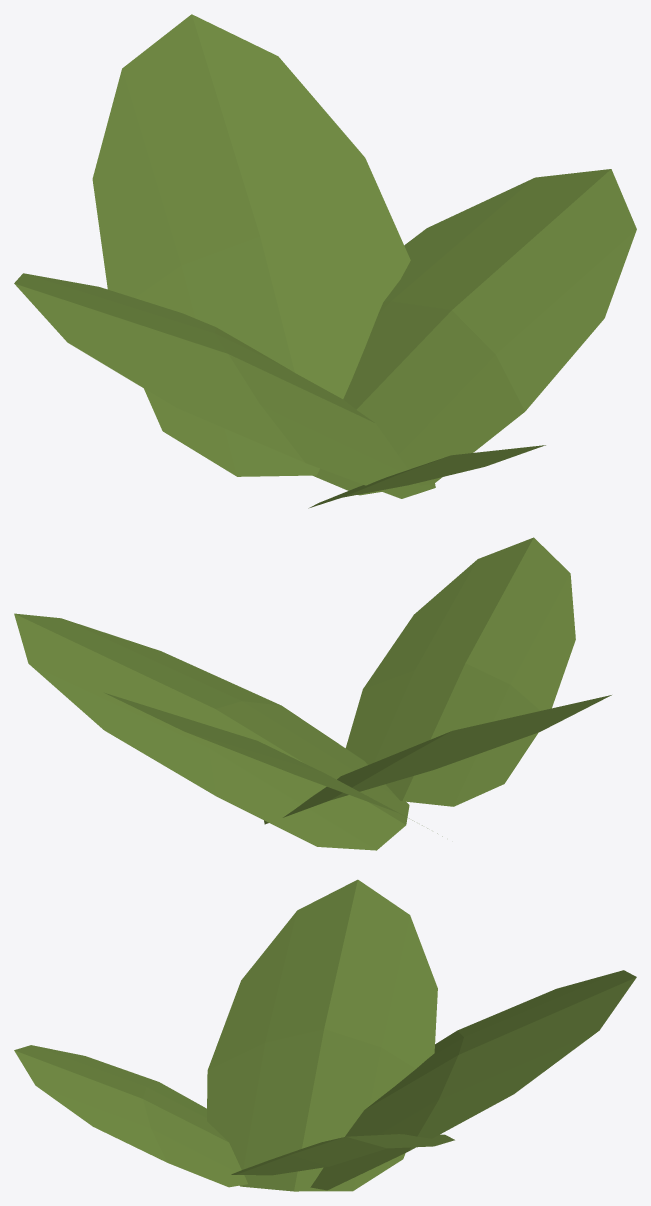
The model's file is wild_pz_foot_leafy.glb.
The picture shows the model from 3 angles, top to bottom: view 1: azimuth 30°, elevation 25°; view 2: azimuth 150°, elevation 25°; view 3: azimuth 270°, elevation 25°; orthographic projection. The views are drawn at different scales.
Parts seen in each view (by area): view 1: pg_foot_leafy; view 2: pg_foot_leafy; view 3: pg_foot_leafy.
Boxes of the visible parts, x1,y1,x2,y2 form: pg_foot_leafy: (14, 14, 636, 508); pg_foot_leafy: (14, 537, 611, 850); pg_foot_leafy: (14, 879, 636, 1191).
Size of the model in its own units: 0.4269 by 0.1862 by 0.4875.
